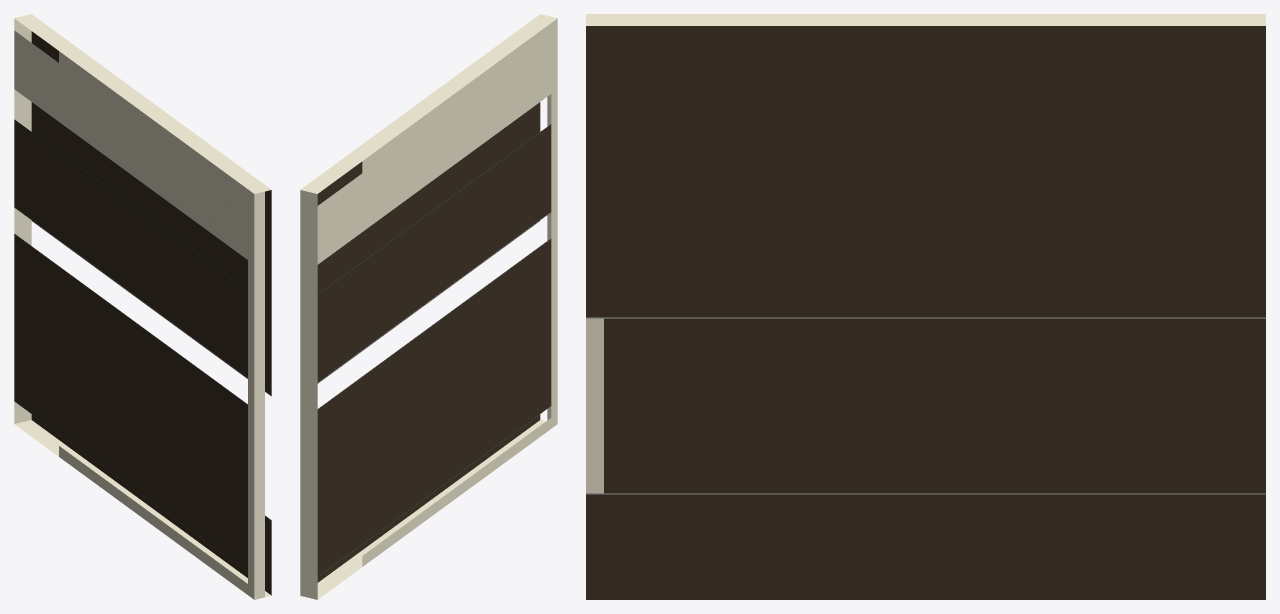
File: closetDoor.fbx
The picture shows the model from 3 angles, left to right: view 1: azimuth 30°, elevation 25°; view 2: azimuth 150°, elevation 25°; view 3: azimuth 270°, elevation 25°; orthographic projection. The views are drawn at different scales.
Parts seen in each view (by area): view 1: Cube.002; view 2: Cube.002; view 3: Cube.002.
Boxes of the visible parts, bbox=[...] form: Cube.002: bbox=[14, 14, 271, 599]; Cube.002: bbox=[300, 14, 557, 599]; Cube.002: bbox=[586, 14, 1265, 599].
Size of the model in its own units: 5.23 by 117 by 126.
